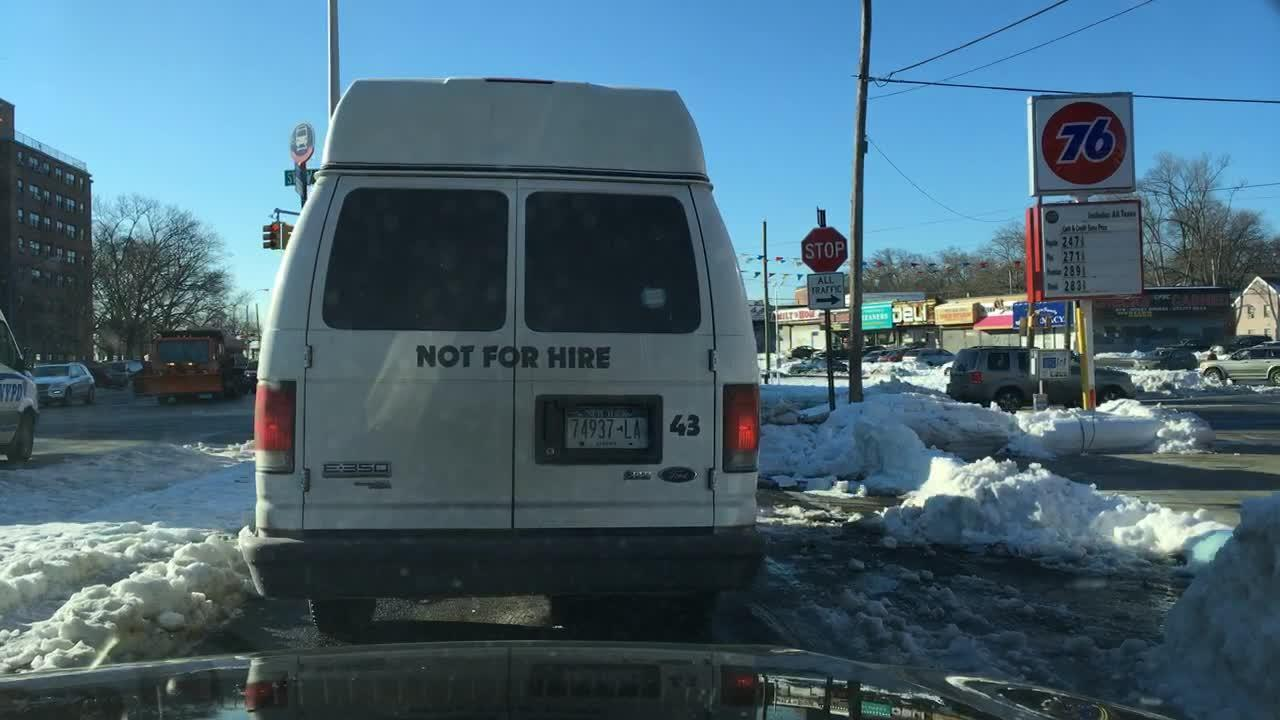ford: (653, 458, 702, 493)
